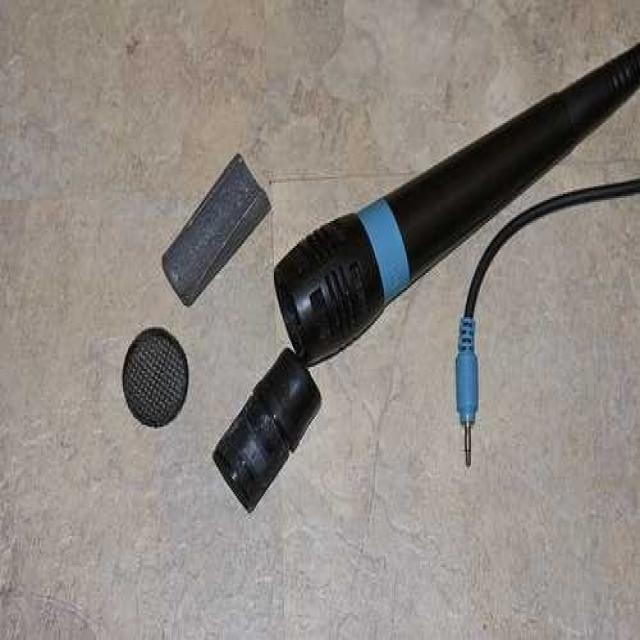microphone: (271, 120, 640, 353)
